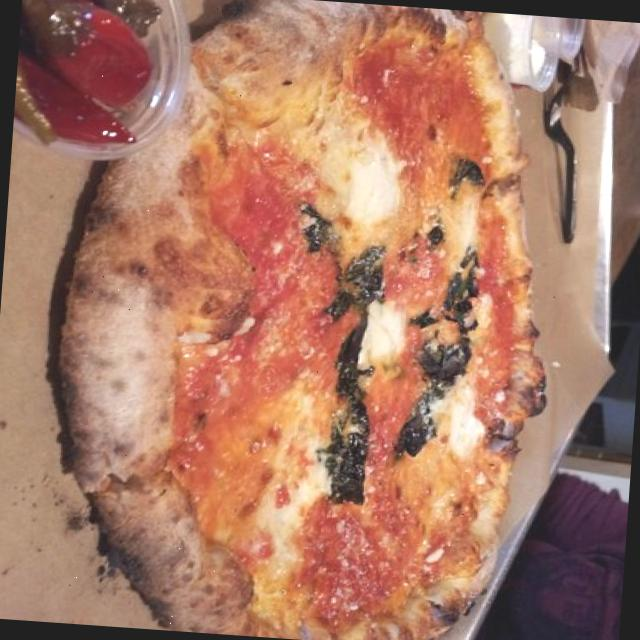basil: (320, 238, 390, 396), (313, 390, 377, 507), (436, 238, 482, 336), (390, 382, 446, 460), (411, 330, 477, 390), (442, 150, 488, 202), (297, 203, 340, 251), (408, 304, 448, 332), (424, 216, 448, 250)
cheese: (314, 107, 420, 245), (260, 436, 330, 562), (358, 300, 408, 377), (442, 388, 490, 456)
pizza: (59, 0, 546, 640)
tomato: (208, 156, 305, 304), (309, 508, 404, 623), (384, 237, 444, 314)
